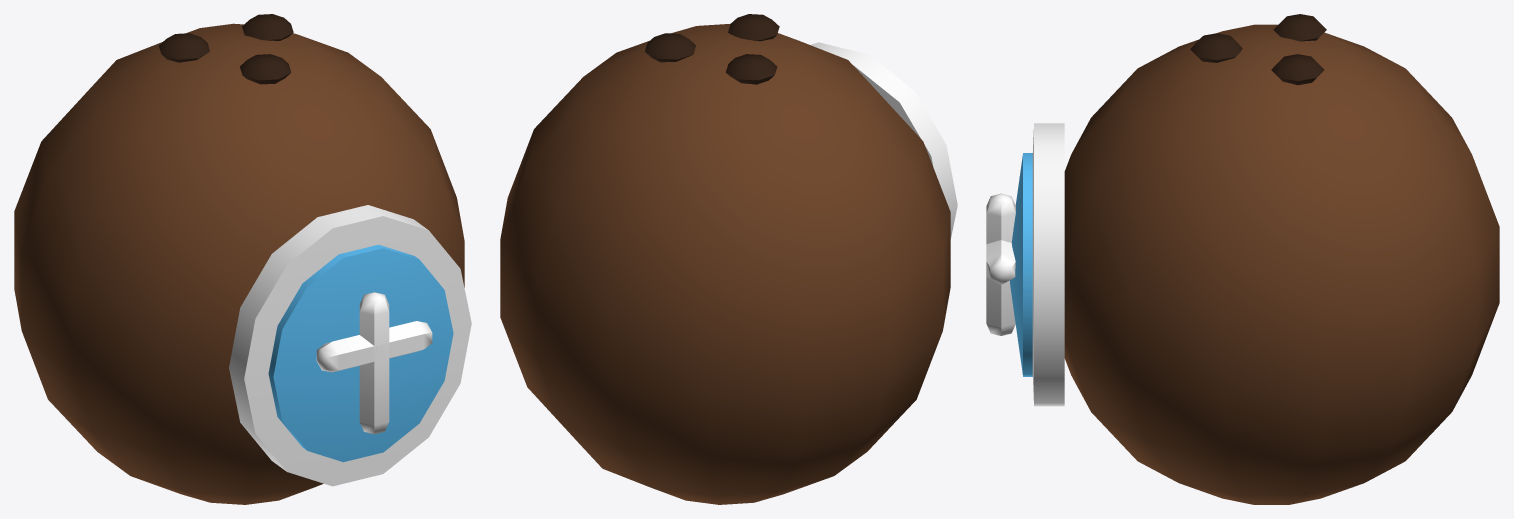
Rendered from P04_CoconutShield.fbx.
3 views of the same model, side by side, from view 1: azimuth 30°, elevation 25°; view 2: azimuth 150°, elevation 25°; view 3: azimuth 270°, elevation 25° (orthographic).
Parts seen in each view (by area): view 1: P04_CoconutShield; view 2: P04_CoconutShield; view 3: P04_CoconutShield.
Part boxes in pixels (bbox=[...]): P04_CoconutShield: bbox=[14, 14, 471, 504]; P04_CoconutShield: bbox=[500, 14, 957, 504]; P04_CoconutShield: bbox=[986, 14, 1499, 504].
Size of the model in its own units: 0.3648 by 0.405 by 0.4212.
